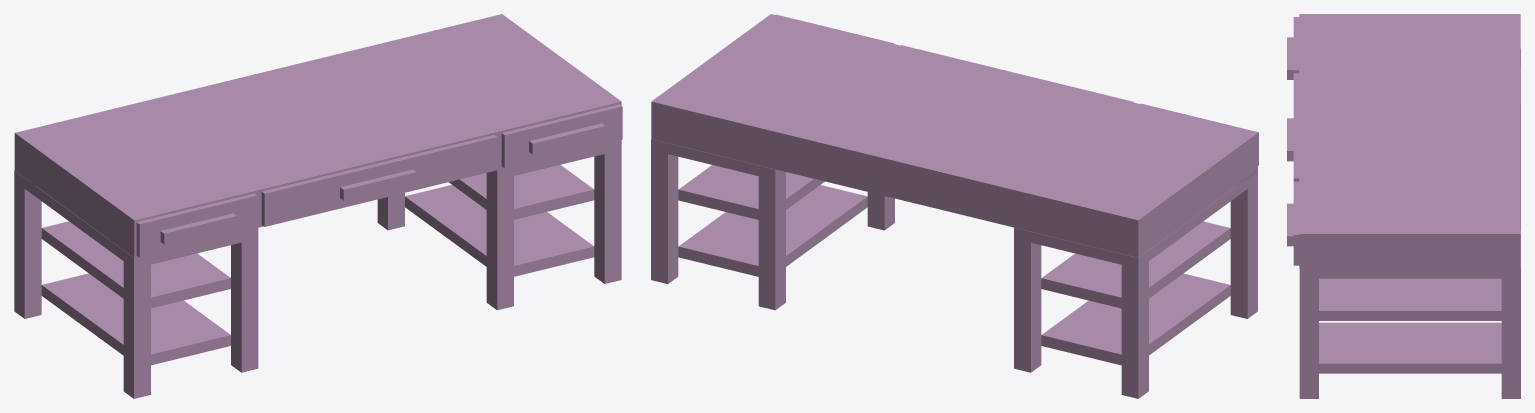
Rendered from Desk_2.FBX.
3 views of the same model, side by side, from view 1: azimuth 30°, elevation 25°; view 2: azimuth 150°, elevation 25°; view 3: azimuth 270°, elevation 25° (orthographic). The views are drawn at different scales.
Parts seen in each view (by area): view 1: Desk_2; view 2: Desk_2; view 3: Desk_2.
Part boxes in pixels (x1,y1,x2,y2): Desk_2: [14, 14, 622, 398]; Desk_2: [651, 14, 1258, 398]; Desk_2: [1287, 14, 1520, 398].
Bounding box in the file's own units: 3.6 × 1.26 × 1.62.
